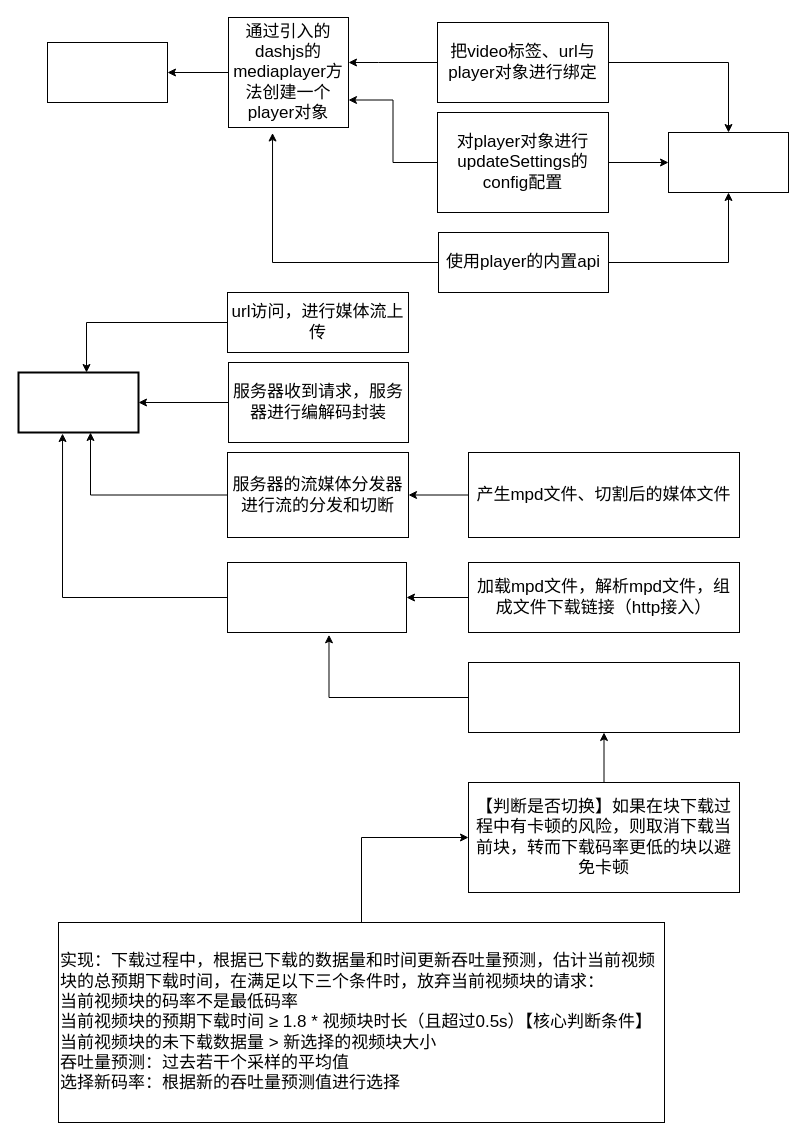
The diagram is 806 pixels wide and 1140 high, and some of its shapes have lost their labels. The centre of each missing label's shape, as x and y in pixels:
"初始化" belongs at point (107, 72).
"完成初始化" belongs at point (728, 162).
"客户端通过控制引擎和媒体引擎加载mpd文件" belongs at point (316, 597).
"当前的网速和支持的编码加载相应的视频片段进行播放" belongs at point (604, 697).
"触发load功能" belongs at point (78, 402).
